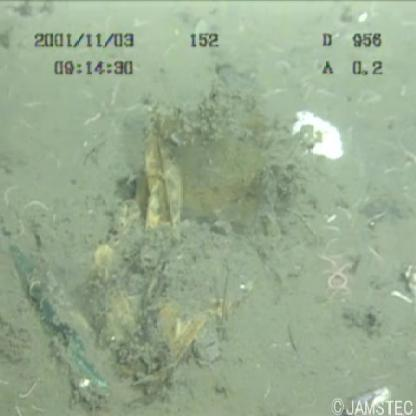Bio: (312, 252, 357, 297)
Rác: (5, 107, 242, 415)
